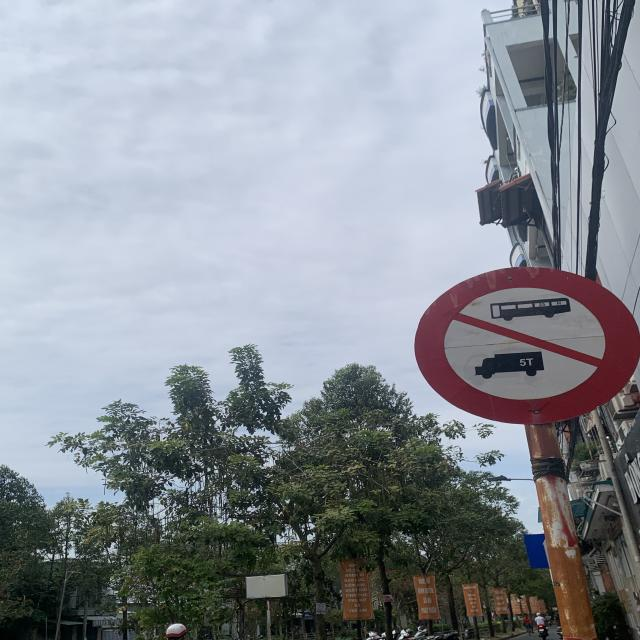Cam_XeTai_XeKhach: (413, 266, 640, 425)
